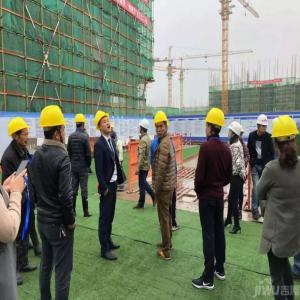white: (256, 114, 269, 136), (228, 122, 242, 142), (138, 118, 151, 135)
yellow: (272, 112, 298, 161), (40, 104, 67, 148), (204, 107, 227, 140), (8, 116, 30, 148), (94, 110, 112, 135), (153, 111, 169, 138), (75, 114, 87, 132)
